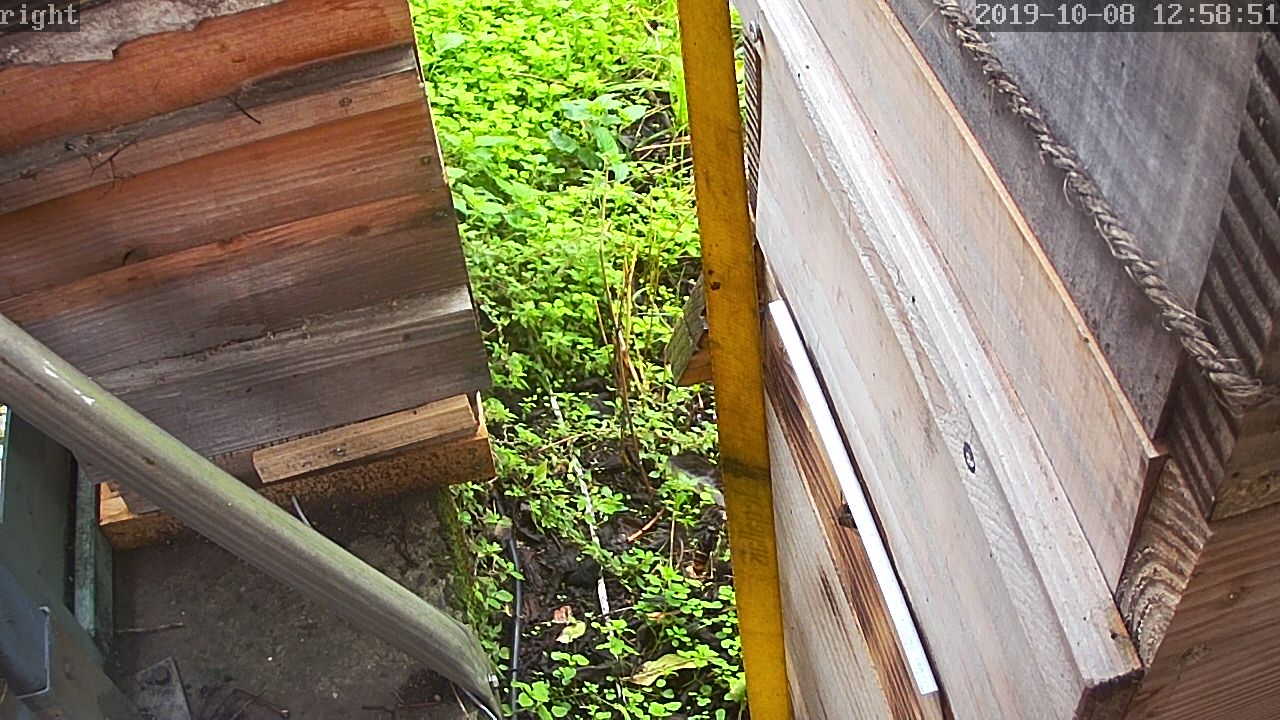bee: (832, 498, 865, 534)
hornet: (695, 519, 730, 590)
